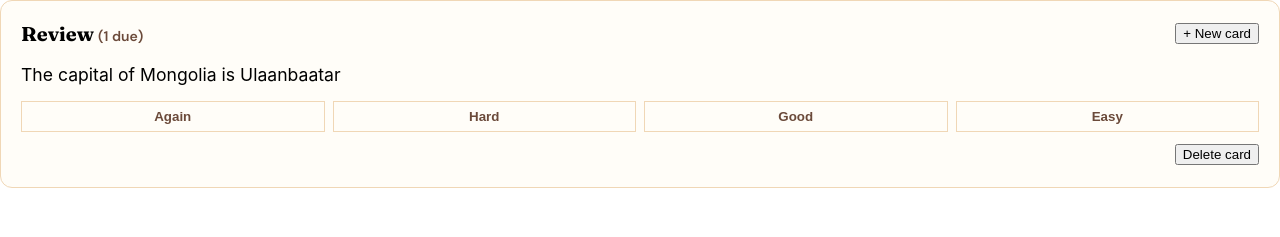
it: a failed delete shows an error and keeps the card
Click the button "Delete card".
click(1217, 154)  # box [1175,144,1259,165]
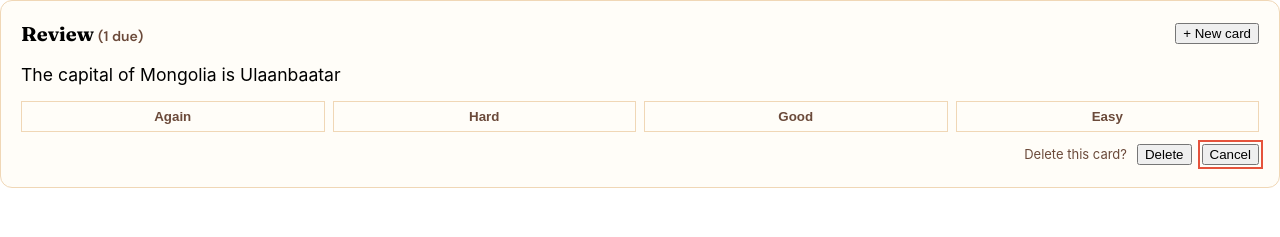
Click the button "Delete".
click(1164, 154)  # box [1137,144,1192,165]
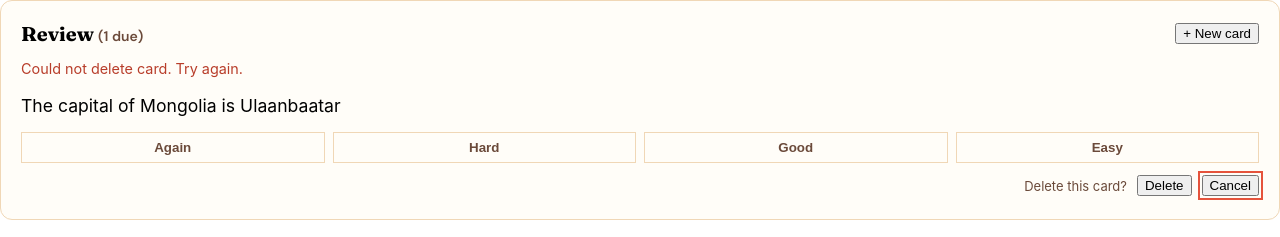
Expected: the text "The capital of Mongolia is Ulaanbaatar" is shown, [21,95,341,116]
Result: the text "Could not delete card. Try again." is shown at [21,60,243,77]
